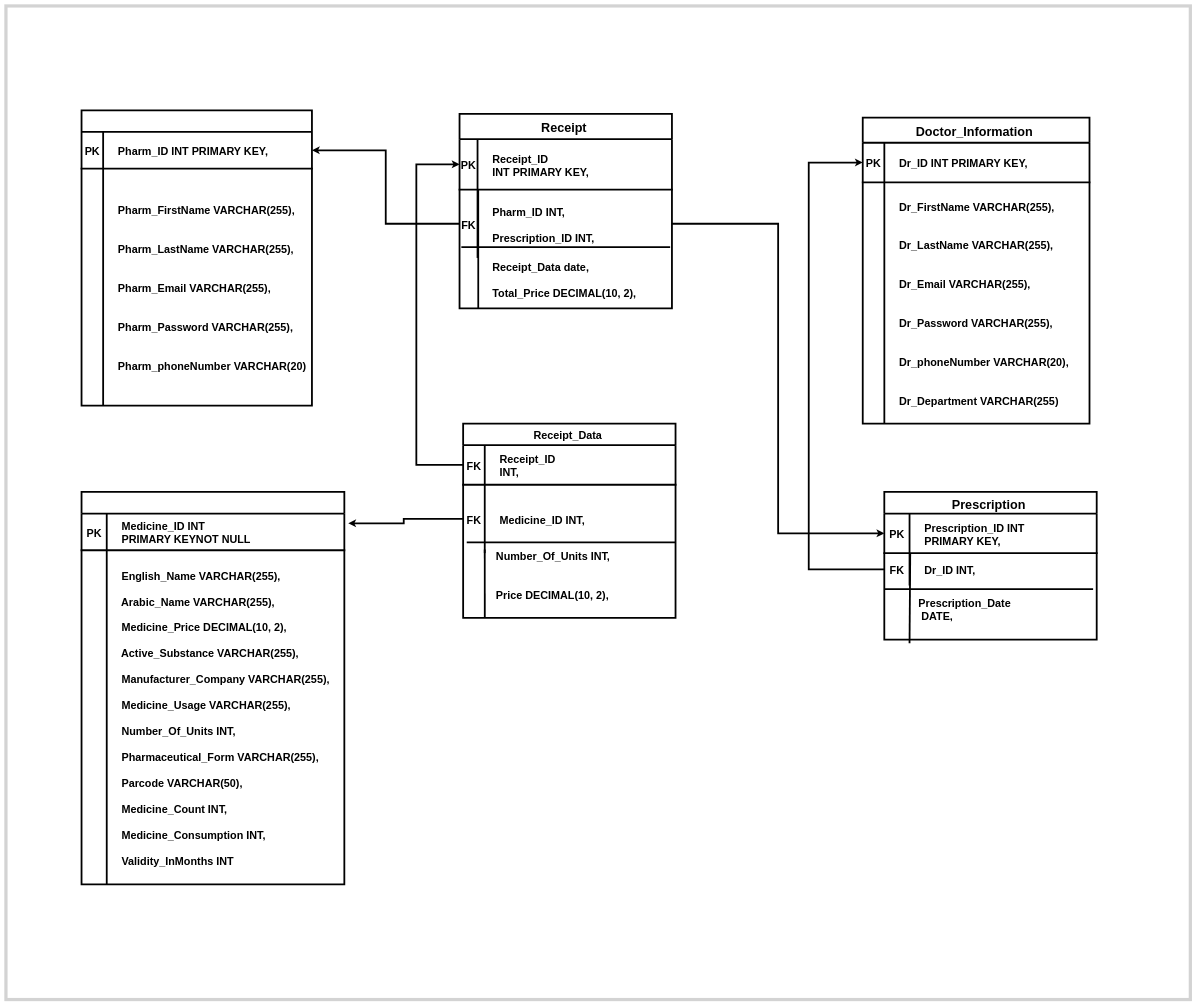
This 1196x1005 diagram has some shape labels left out. The shapes that lost their labels are listed below. From the top down, each one's box as (x1, y1, x2, y2) in pixels, then its label:
(80, 109, 313, 406): Pharmacist_Information
(80, 491, 345, 885): Medicine_Data
